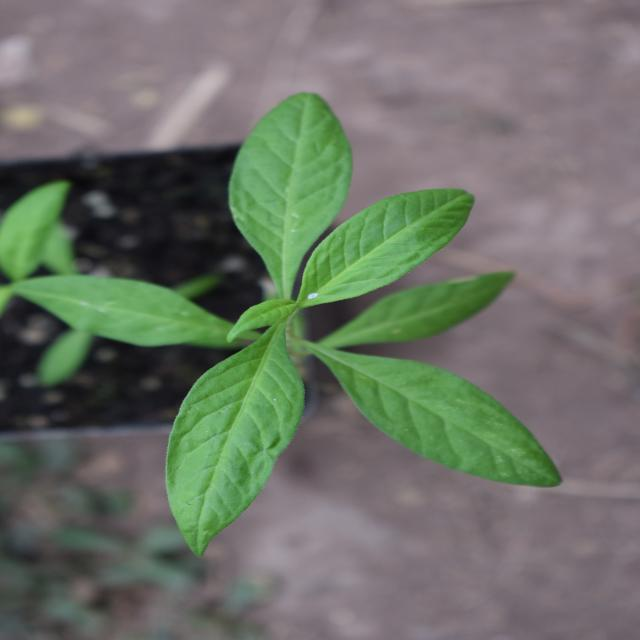white_smart_weed: (88, 54, 541, 548)
